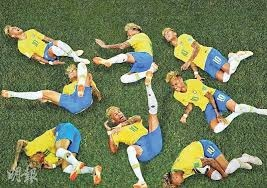falling: (157, 137, 259, 186)
